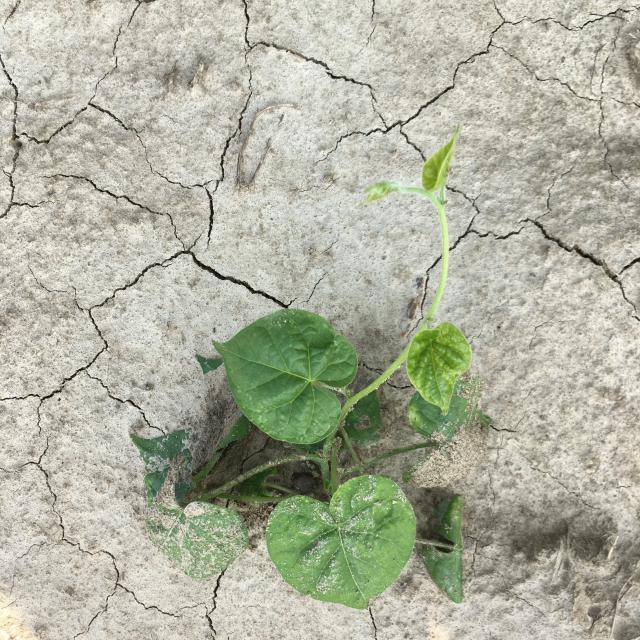MorningGlory: (129, 126, 495, 611)
